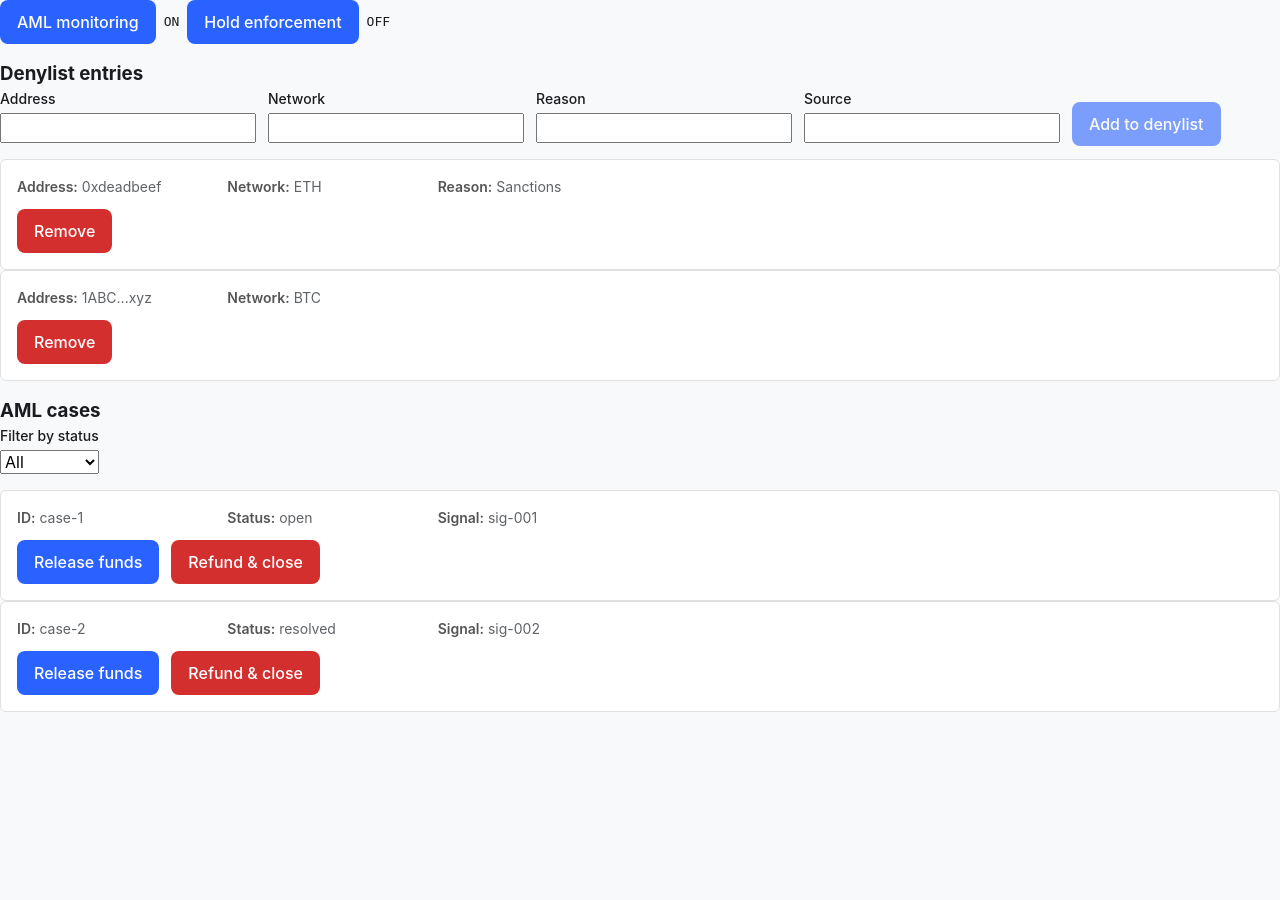
AmlOps — cases › a 409 already-resolved error renders with role="alert"
Open a resolve dialog to show the error
Click the button "Release funds" below "case-1". click: (88, 562)
box: [17,540,159,584]
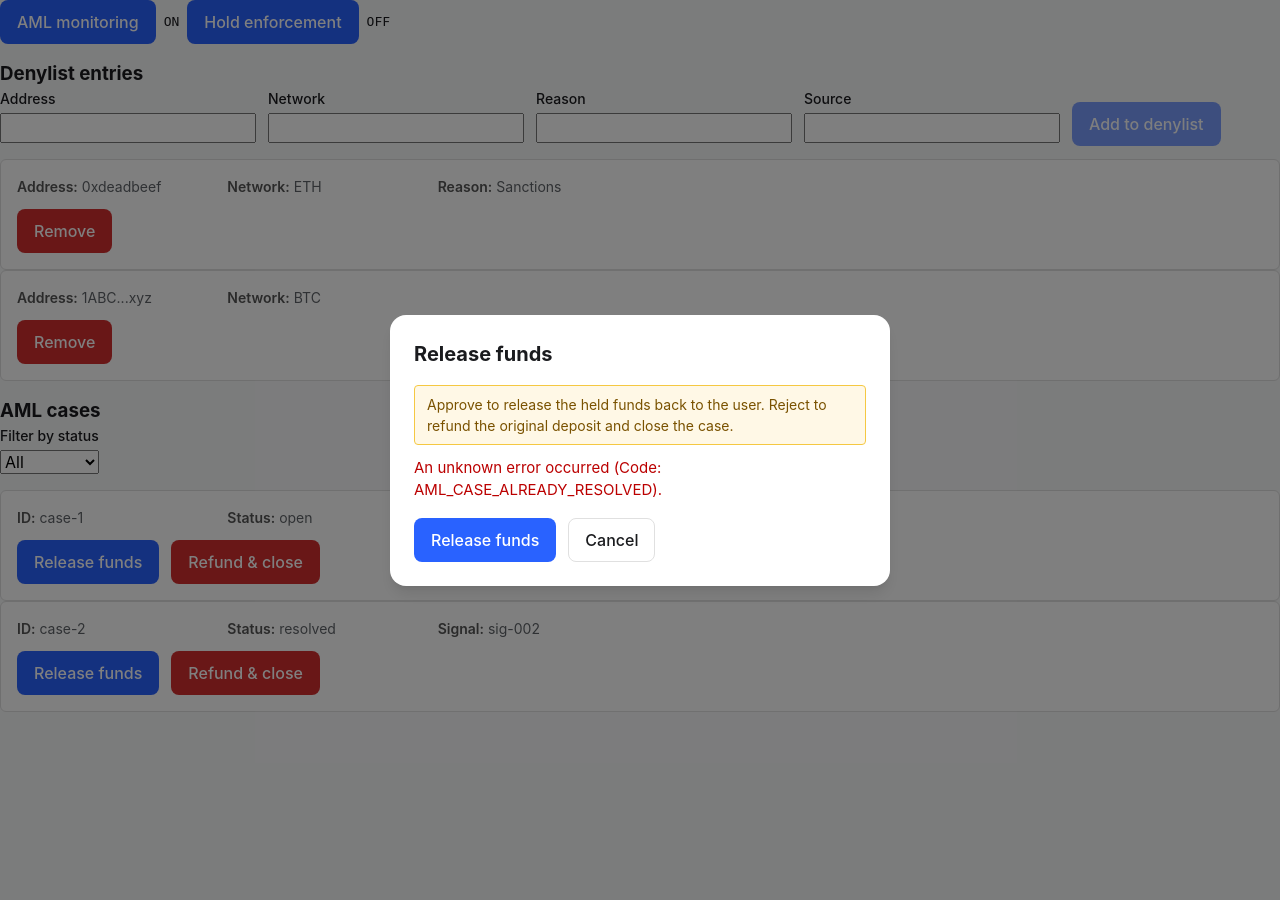
Check: the message "An unknown error occurred (Code: AML_CASE_ALREADY_RESOLVED)." is shown, box [414,458,662,499]
